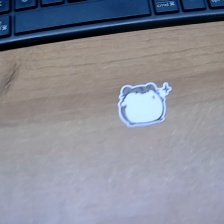mouse: (114, 81, 173, 128)
